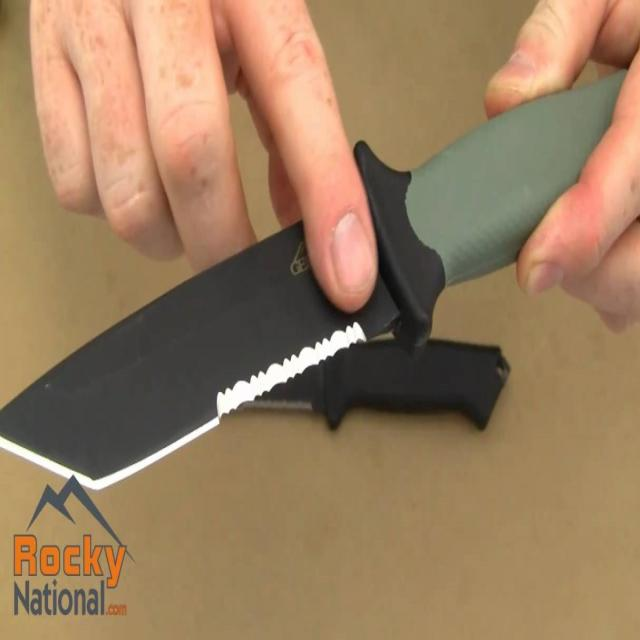knife: (1, 63, 632, 512)
